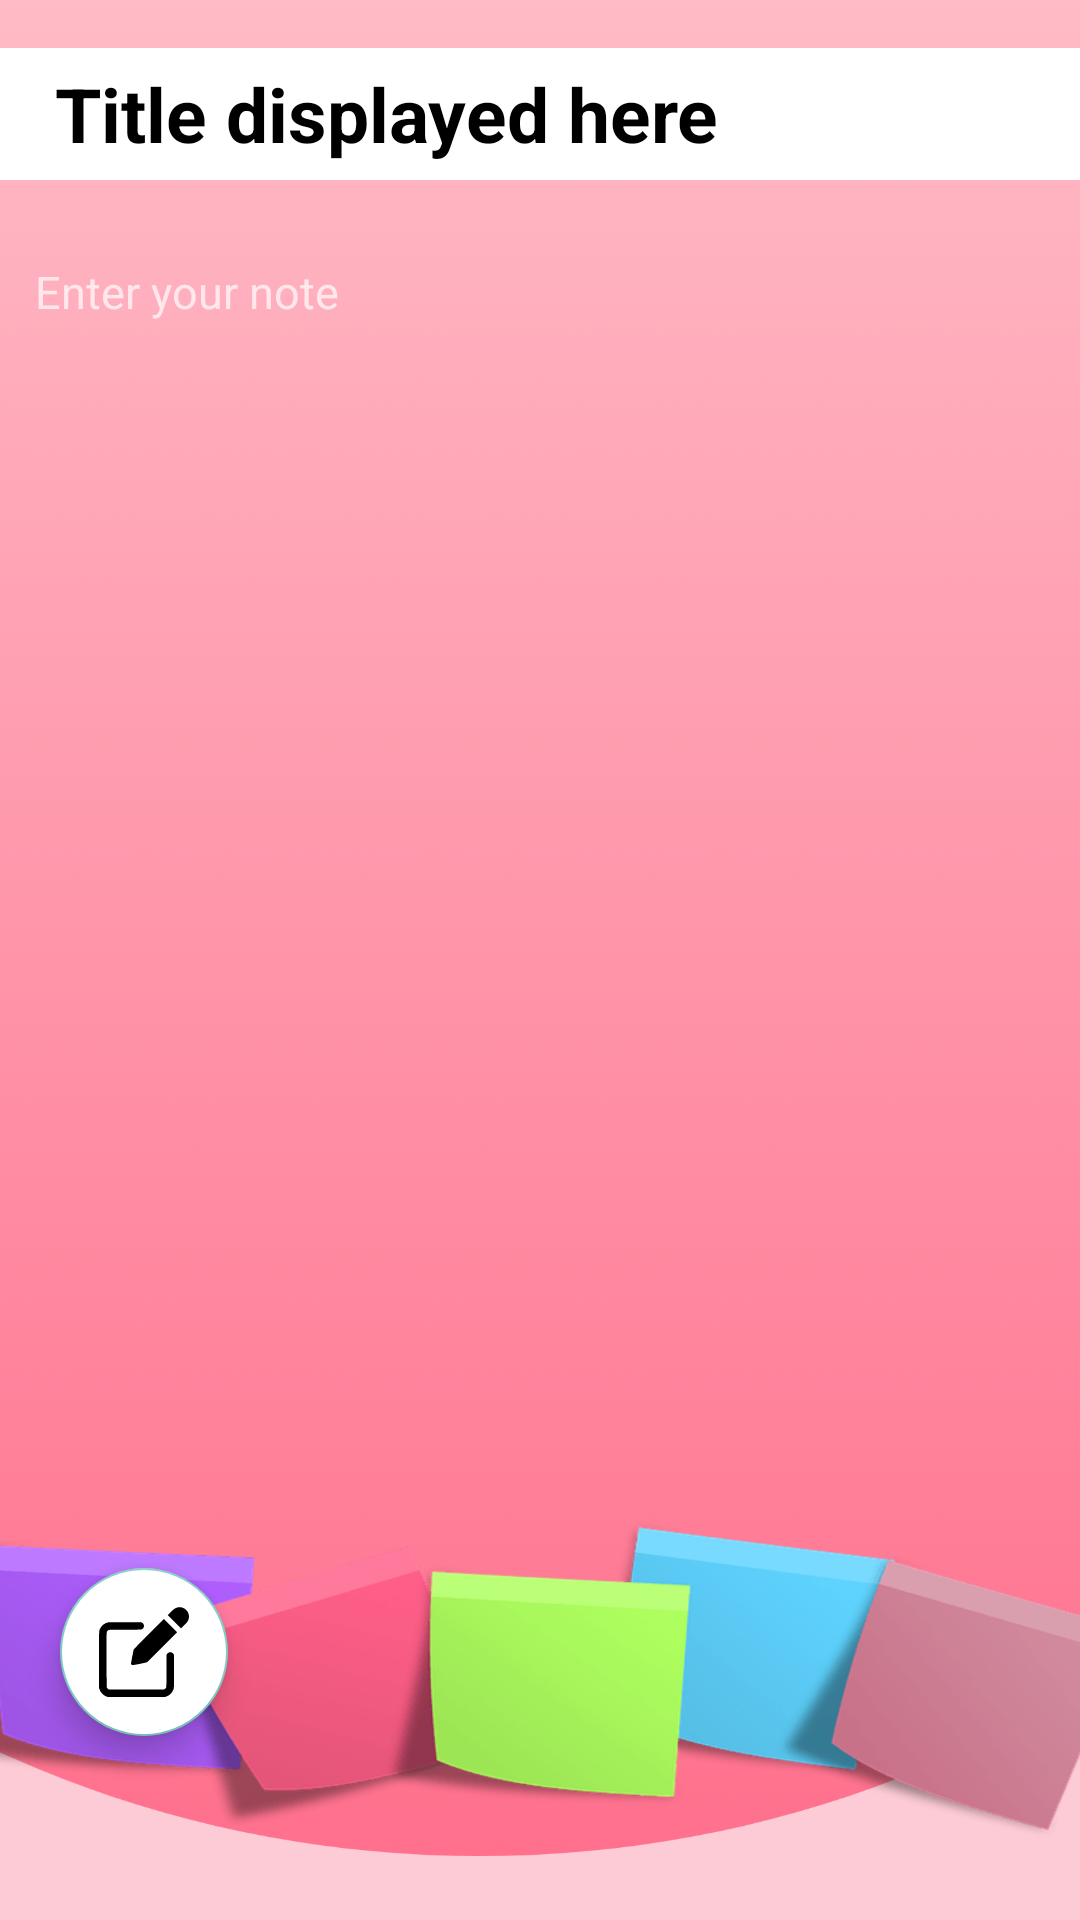

Icons on this 1080*1920 Android screen, each with the point to tap as point (x, y):
edit: point (144, 1652)
